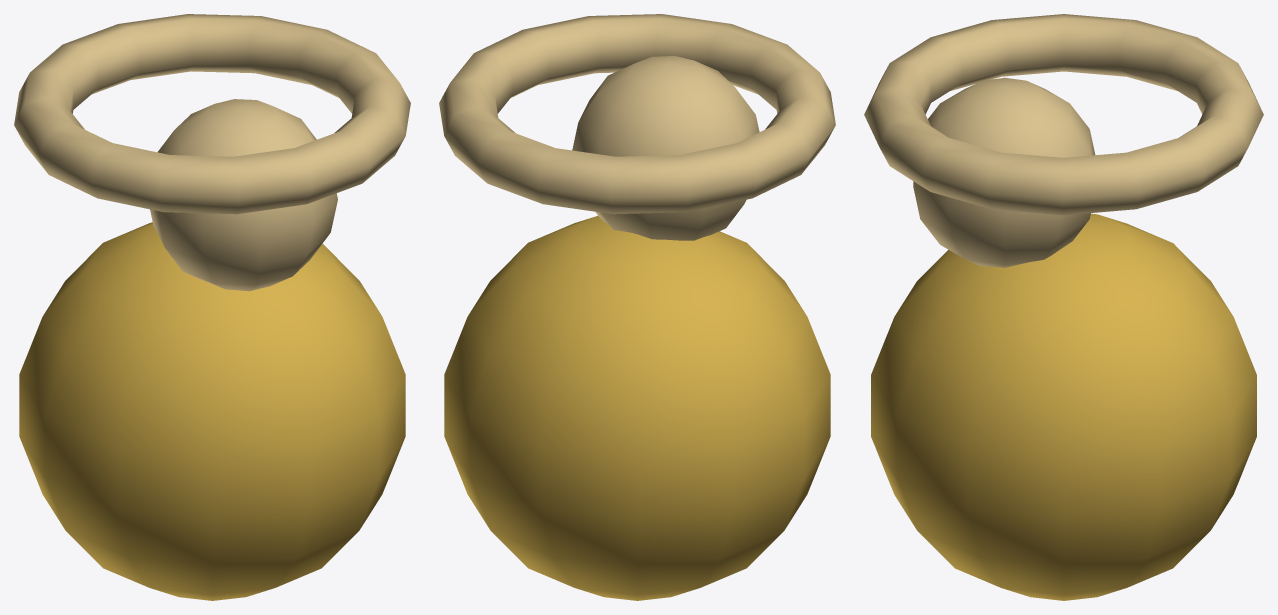
Rendered from star_monster_1.glb.
The picture shows the model from 3 angles, left to right: view 1: azimuth 30°, elevation 25°; view 2: azimuth 150°, elevation 25°; view 3: azimuth 270°, elevation 25°; orthographic projection.
Parts seen in each view (by area): view 1: CoreBody, MOTIF_star_halo, Head; view 2: CoreBody, MOTIF_star_halo, Head; view 3: CoreBody, MOTIF_star_halo, Head.
Boxes of the visible parts, <box> form: CoreBody: <box>19,222,405,600</box>; MOTIF_star_halo: <box>14,14,410,214</box>; Head: <box>150,99,337,291</box>; CoreBody: <box>444,216,830,600</box>; MOTIF_star_halo: <box>439,14,835,214</box>; Head: <box>572,56,759,240</box>; CoreBody: <box>871,213,1256,600</box>; MOTIF_star_halo: <box>864,14,1263,215</box>; Head: <box>913,77,1095,267</box>.
Bounding box in the file's own units: 1.22 × 1.67 × 1.22.
